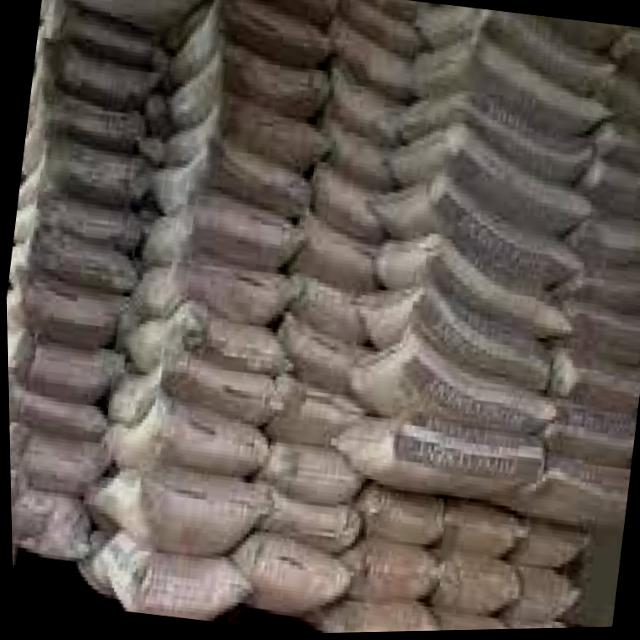cement_bag: (362, 166, 572, 285), (390, 120, 580, 234), (342, 328, 552, 431), (412, 30, 603, 138), (378, 232, 564, 338), (333, 419, 530, 506), (80, 465, 256, 553), (145, 121, 308, 216), (165, 39, 323, 132), (100, 393, 258, 477), (142, 194, 294, 267), (118, 304, 278, 372), (21, 94, 145, 175), (240, 531, 344, 616), (16, 137, 143, 206), (115, 555, 243, 622), (5, 274, 120, 348), (504, 462, 626, 527), (8, 227, 128, 283), (8, 466, 79, 560), (255, 444, 357, 507), (7, 376, 100, 443), (427, 546, 510, 619), (540, 406, 635, 459), (343, 546, 436, 599), (8, 431, 94, 488), (551, 351, 640, 406), (582, 158, 640, 218), (576, 259, 640, 303), (337, 613, 393, 634)
